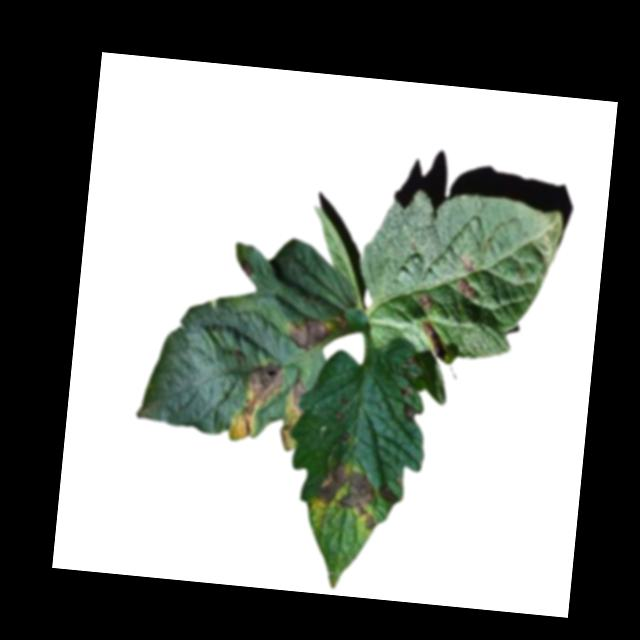Early_blight: (227, 359, 286, 445), (311, 459, 381, 530), (287, 319, 329, 352), (421, 320, 450, 356), (289, 379, 307, 418), (378, 481, 401, 507), (457, 277, 480, 300), (278, 420, 294, 452), (417, 291, 436, 312), (402, 401, 420, 422), (461, 253, 476, 272), (239, 260, 254, 276), (333, 409, 347, 422), (339, 429, 351, 443)
